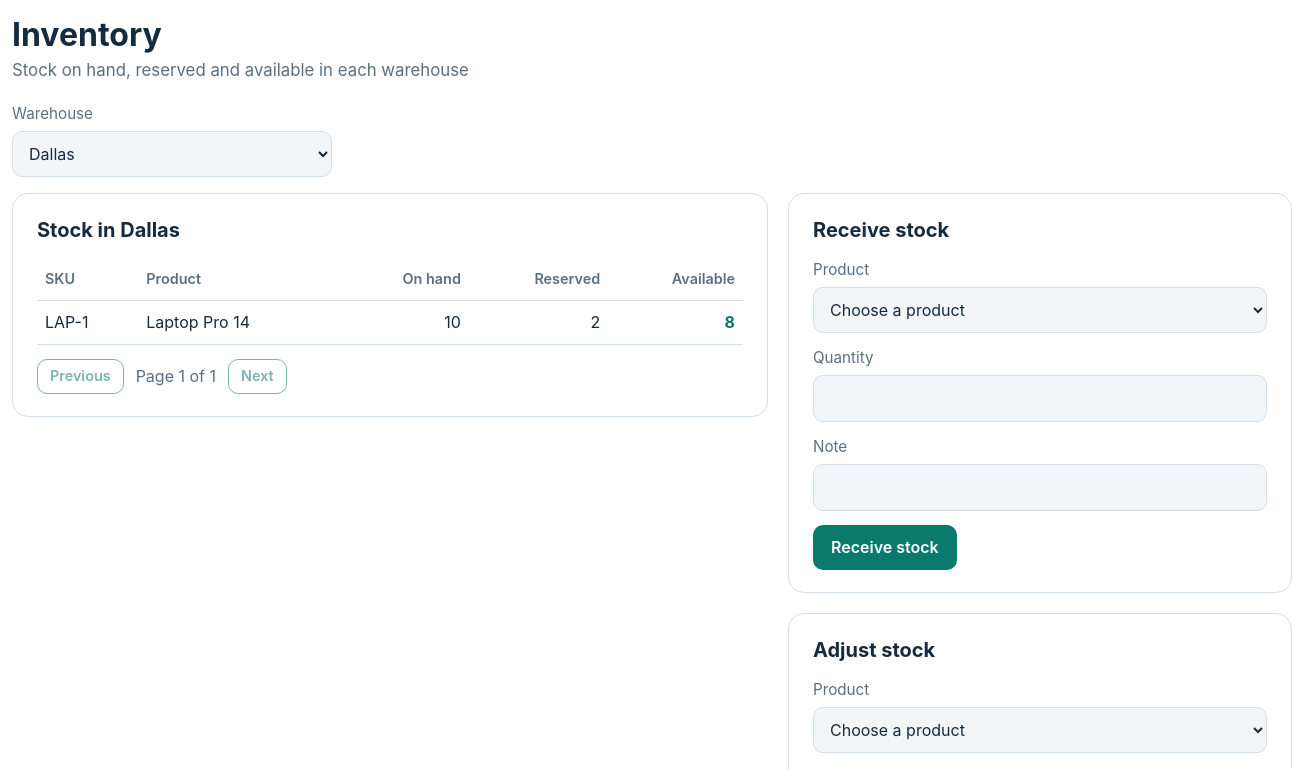
Scenario: InventoryPage receive stock › sends the receipt to the API, confirms it and refreshes the stock
The width and height of the screenshot is (1292, 769).
Expected: the text "LAP-1" is shown, x1=37 y1=300 x2=138 y2=344
Select "LAP-1 — Laptop Pro 14" in the 1st dropdown labelled "Product": (1040, 310) x1=813 y1=287 x2=1267 y2=333
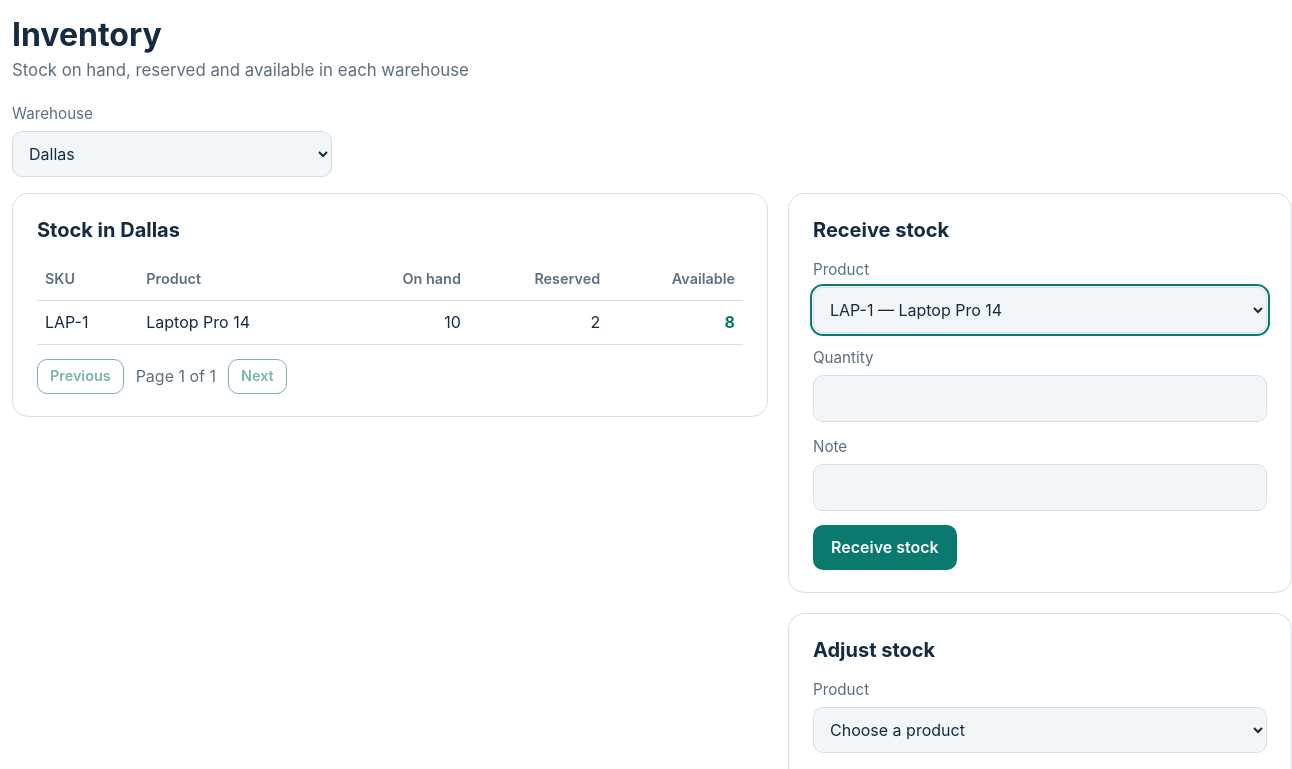
In the field labelled "Quantity": (1040, 398) x1=813 y1=375 x2=1267 y2=422, type "10"
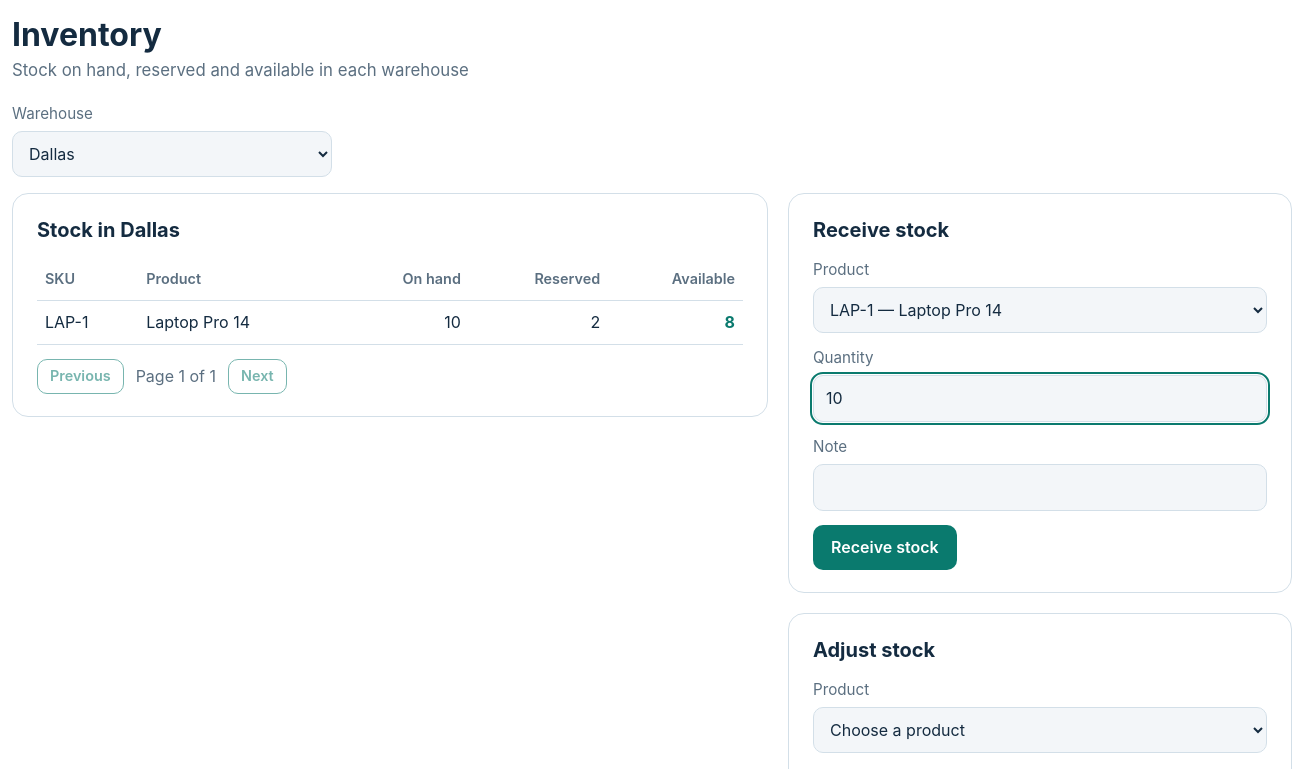
In the field labelled "Note": (1040, 488) x1=813 y1=464 x2=1267 y2=511, type "Delivery"
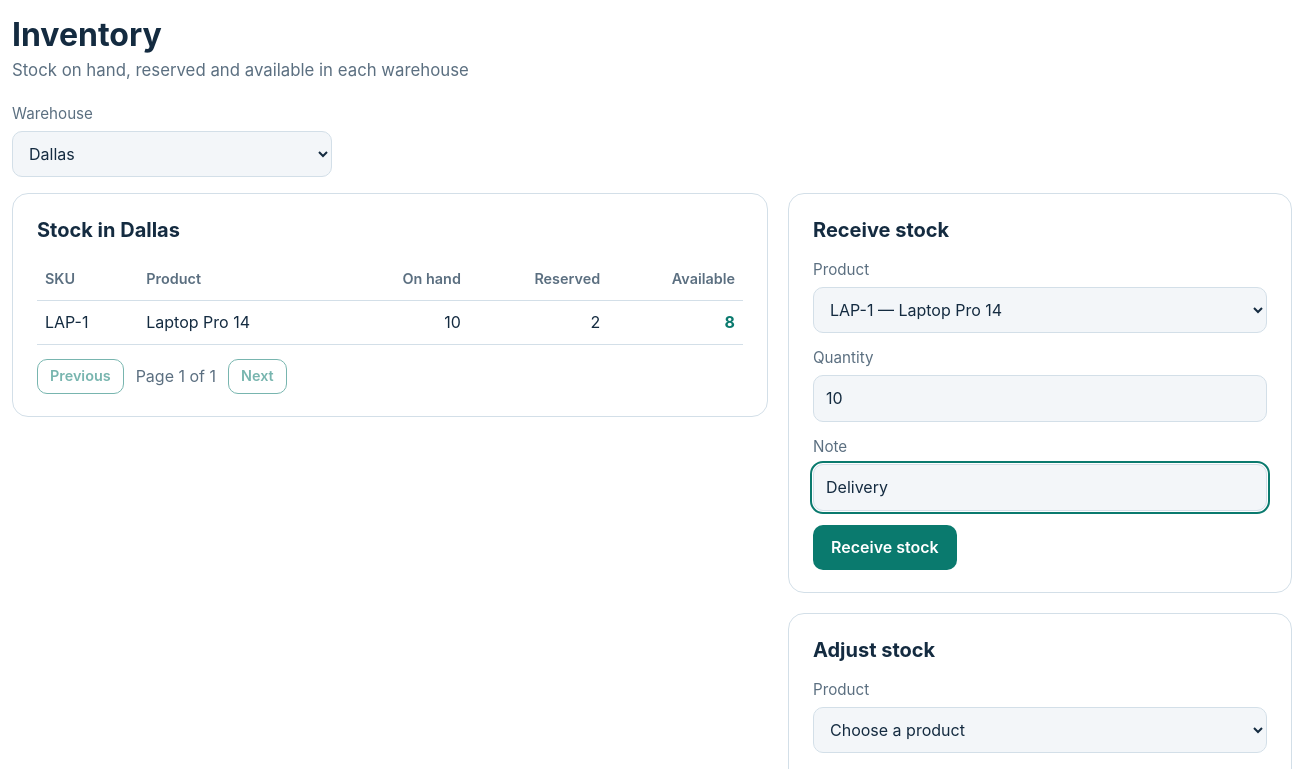
Click the button "Receive stock": (885, 548) x1=813 y1=525 x2=957 y2=570
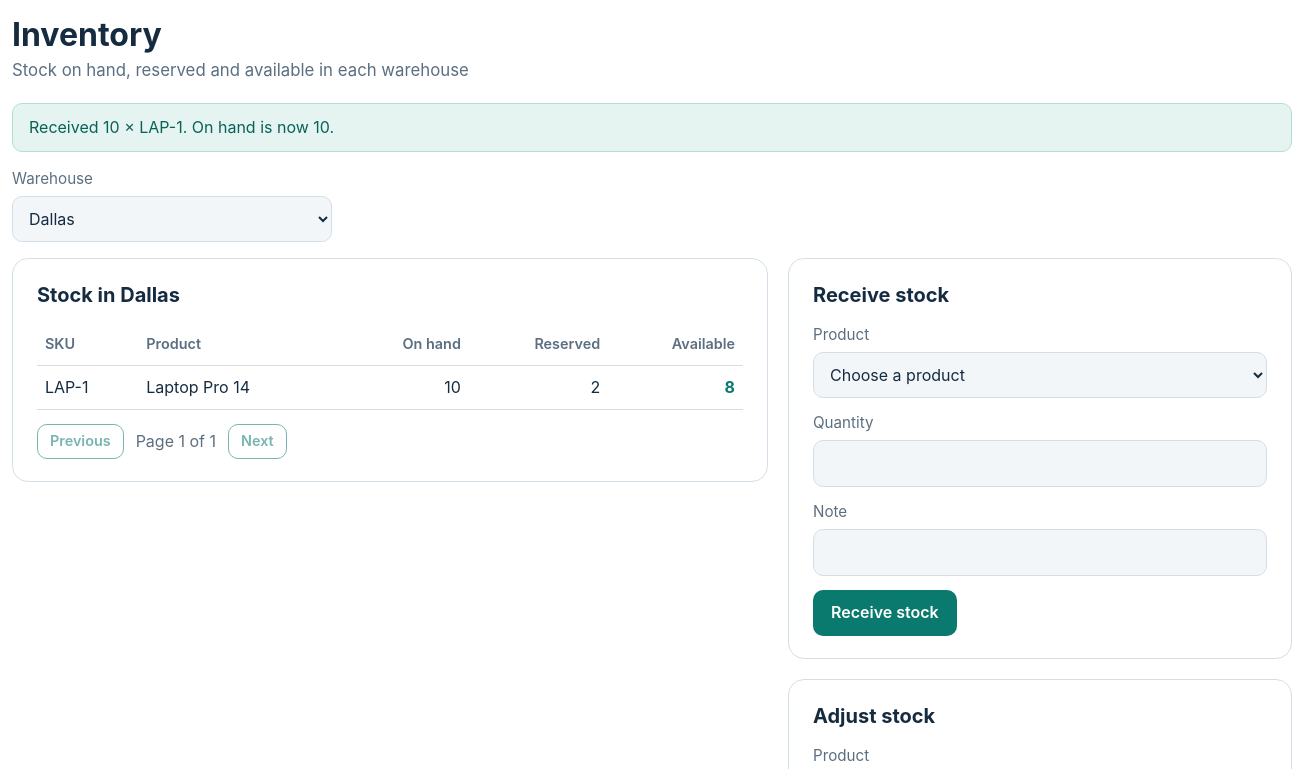
Expected: the text "Received 10 × LAP-1. On hand is now 10." is shown, x1=12 y1=103 x2=1291 y2=152
Expected: the field labelled "Quantity" is empty, x1=813 y1=440 x2=1267 y2=487
